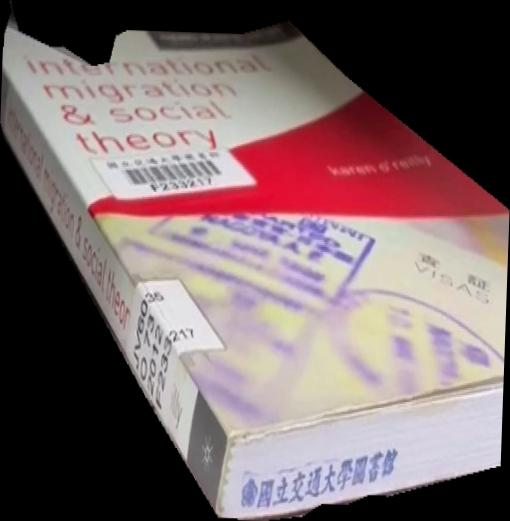flat: (1, 1, 510, 521)
